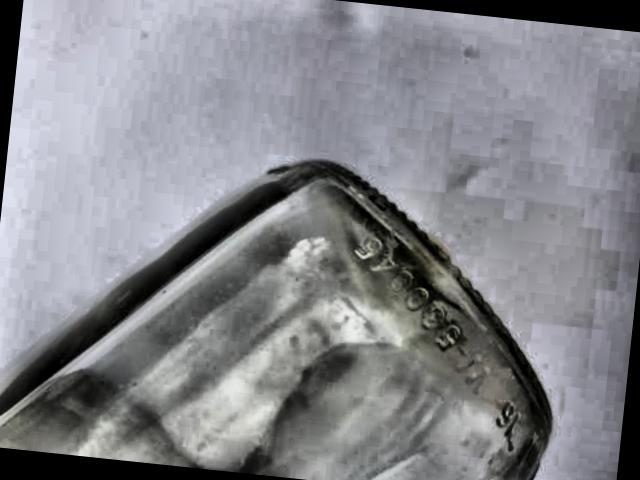Bottles: (0, 125, 587, 480)
